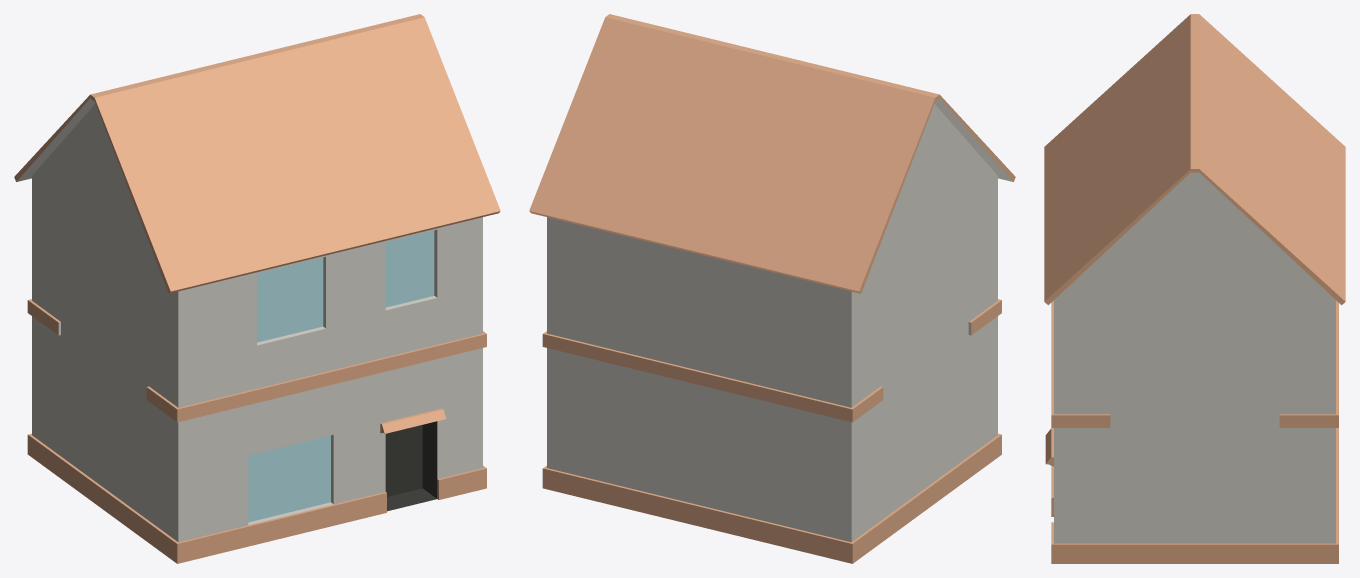
File: House02.fbx
3 views of the same model, side by side, from view 1: azimuth 30°, elevation 25°; view 2: azimuth 150°, elevation 25°; view 3: azimuth 270°, elevation 25° (orthographic). The views are drawn at different scales.
Parts seen in each view (by area): view 1: House02; view 2: House02; view 3: House02.
Part boxes in pixels (bbox=[...]): House02: bbox=[14, 14, 500, 563]; House02: bbox=[529, 14, 1015, 563]; House02: bbox=[1044, 14, 1345, 563].
Bounding box in the file's own units: 130 × 156 × 107.
